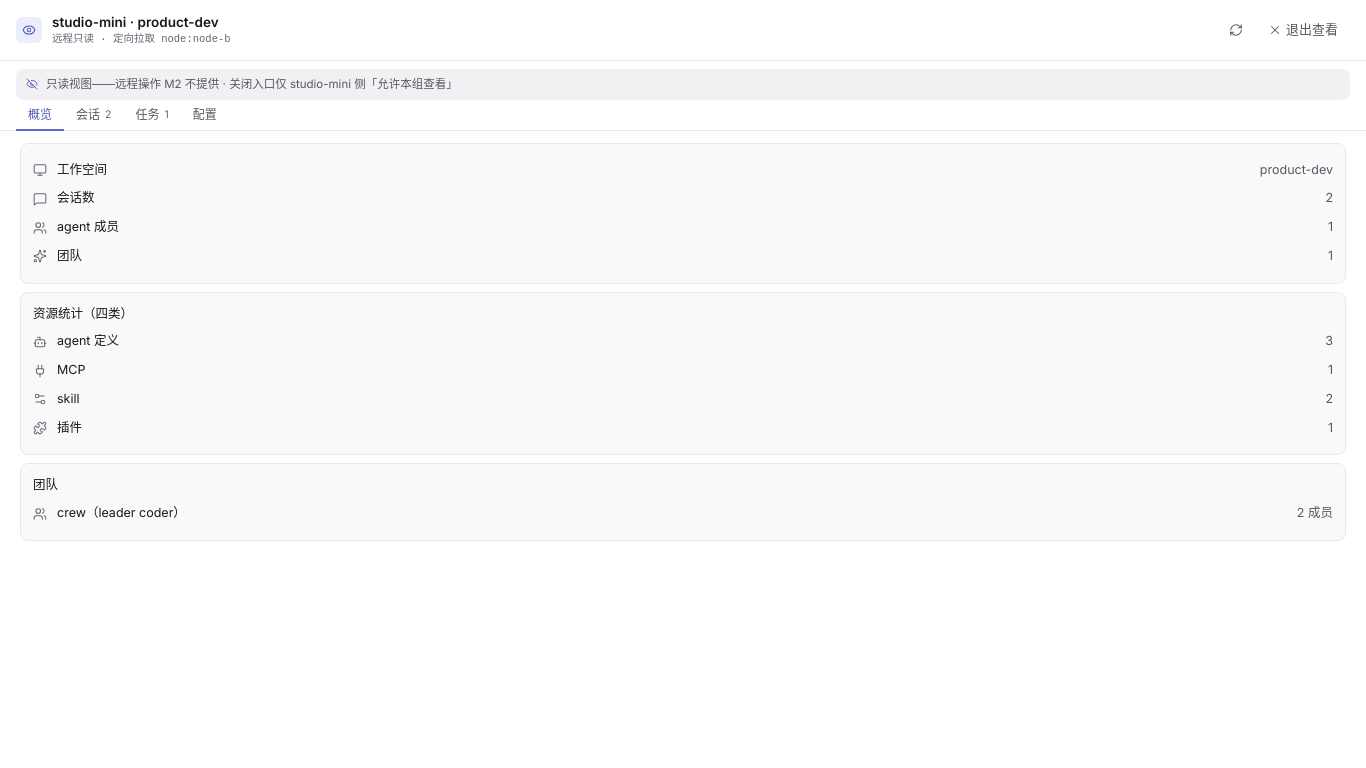
Scenario: RemoteViewPane 打开与四页签 › 打开面板三发（workspace/sessions/tasks）；页签切换不重复拉取（缓存）
expect the tab "会话 2" is shown: met, box [64,100,123,131]
What coordinates should you click on to do the following:
click the tab "任务 1"
I would click on:
 (152, 115)
Its box is [123,100,181,131].
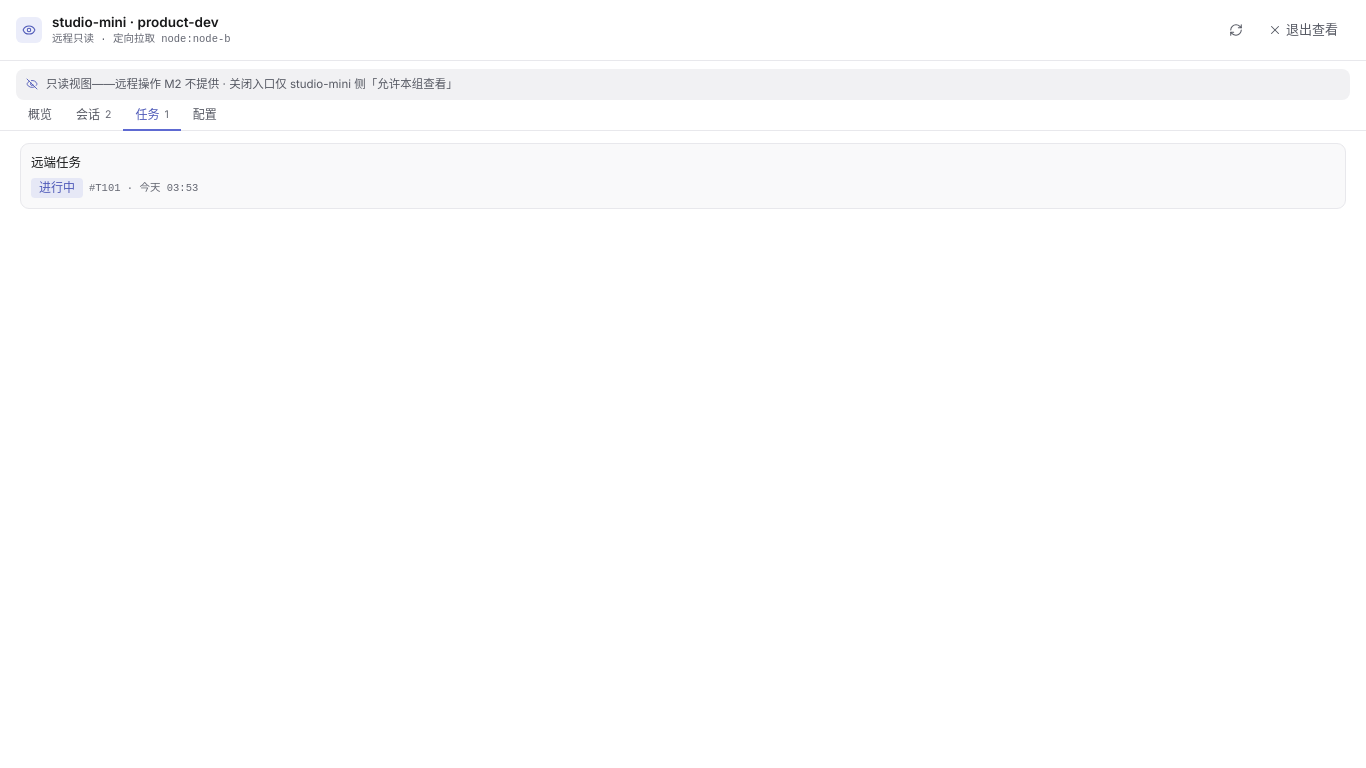
expect the text "远端任务" is shown: met, box [31,155,81,170]
What coordinates should you click on to do the following:
click the tab "配置"
I would click on:
 (205, 115)
Its box is [181,100,229,131].
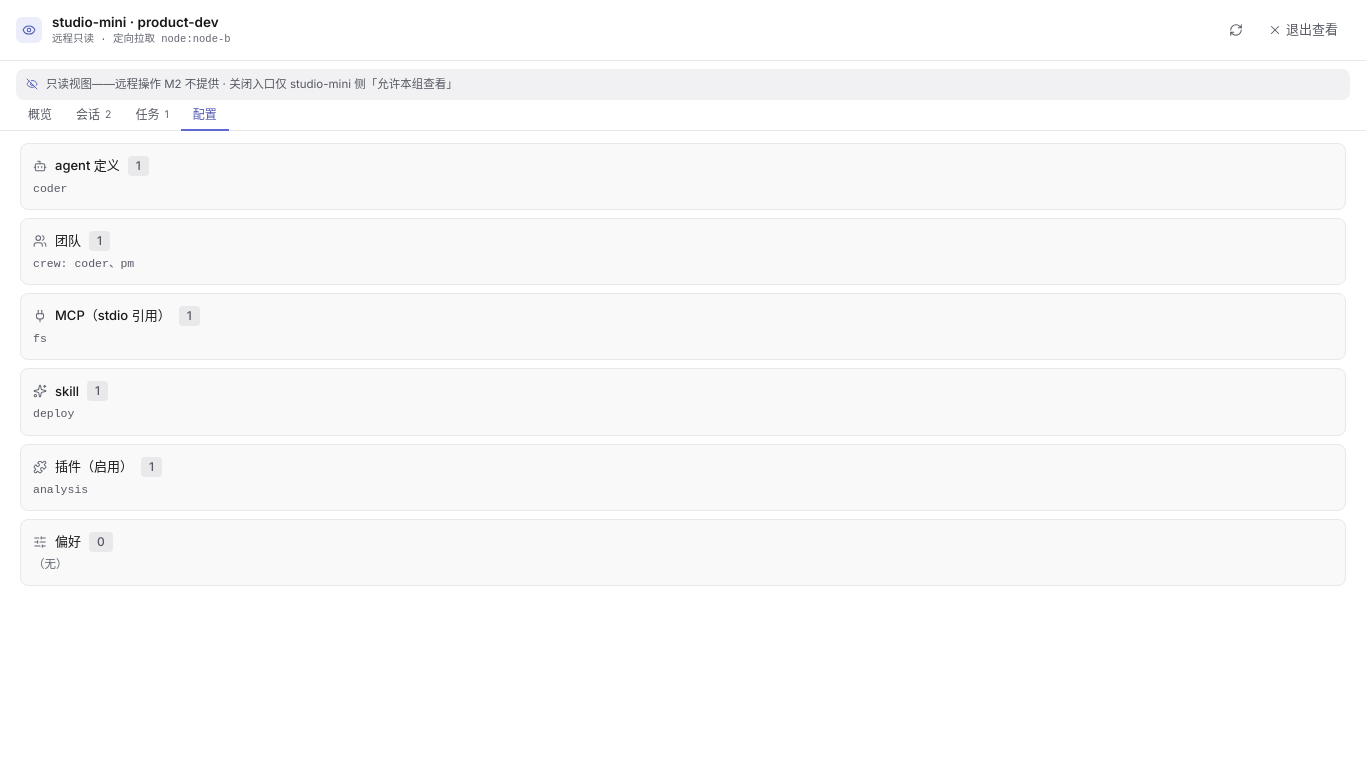
expect the text "MCP（stdio 引用）" is shown: met, box [55,307,171,323]
What coordinates should you click on to do the following:
click the tab "概览"
I would click on:
 (40, 115)
Its box is [16,100,64,131].
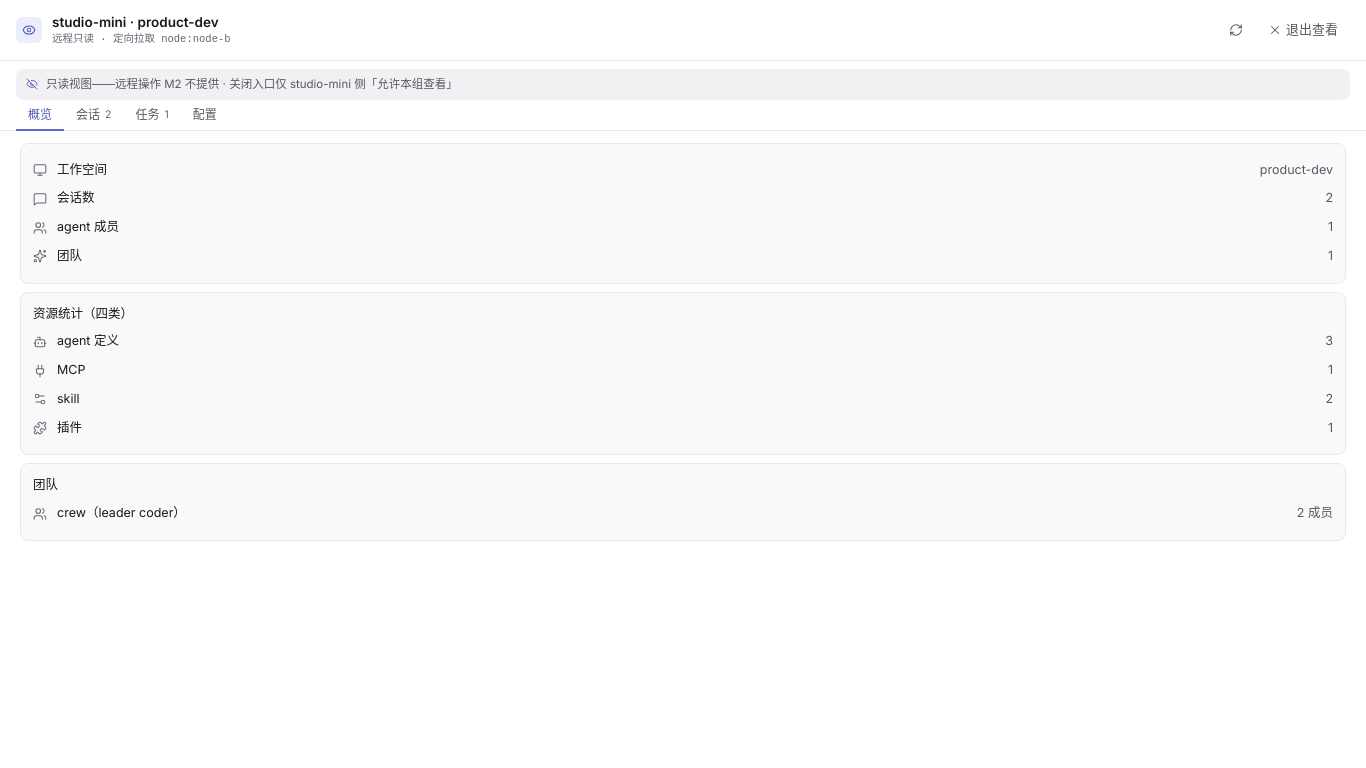
expect the text "资源统计（四类）" is shown: met, box [33,306,133,321]
